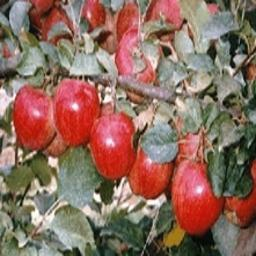apple: (168, 156, 223, 236), (86, 112, 136, 181), (12, 85, 61, 155), (51, 78, 100, 143), (127, 147, 174, 200)
